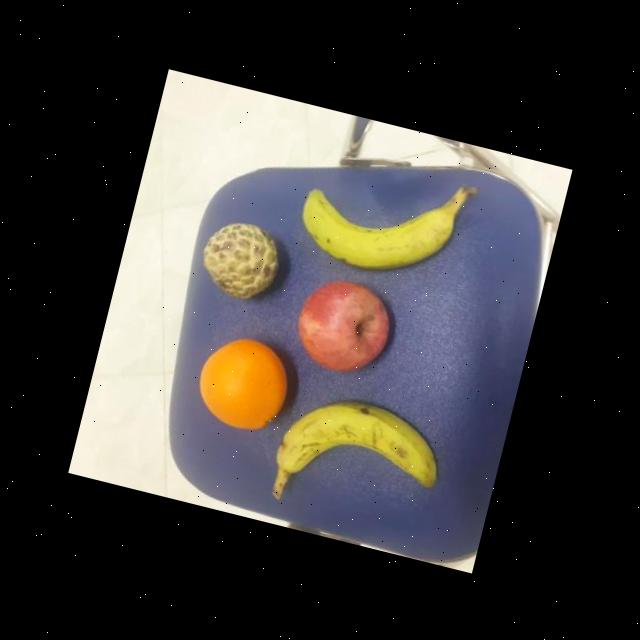Sakya fruit: (190, 211, 288, 307)
apple: (287, 268, 401, 382)
banana: (272, 380, 451, 506), (290, 166, 466, 289)
orange: (187, 326, 299, 438)
